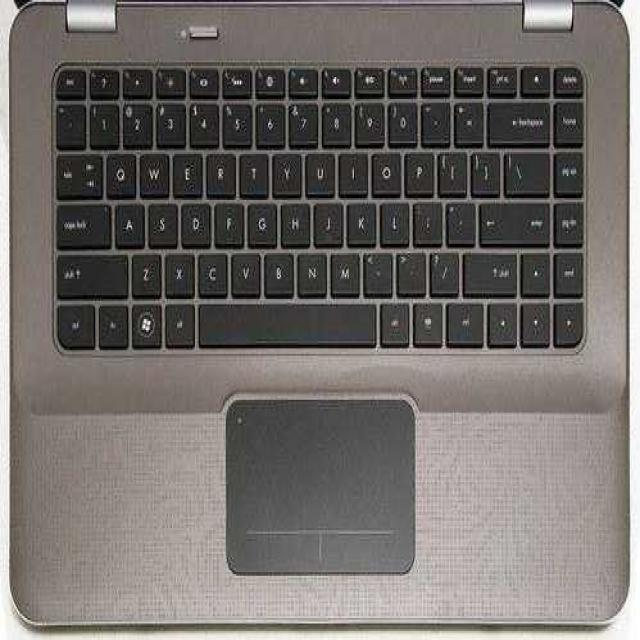keyboard: (12, 0, 632, 627)
